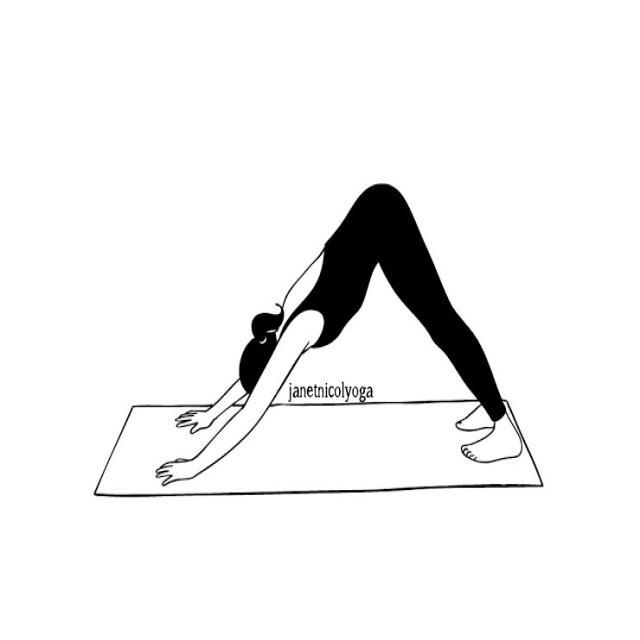Downward-Facing_Dog: (136, 169, 535, 489)
